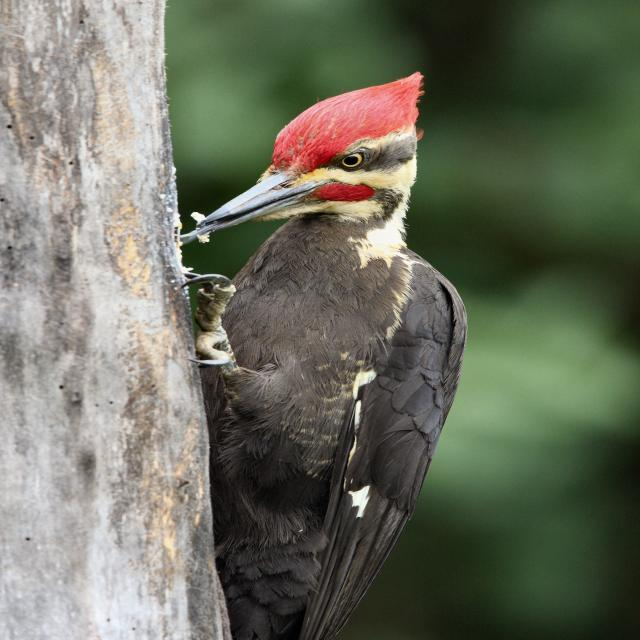woodpecker: (182, 73, 466, 640)
